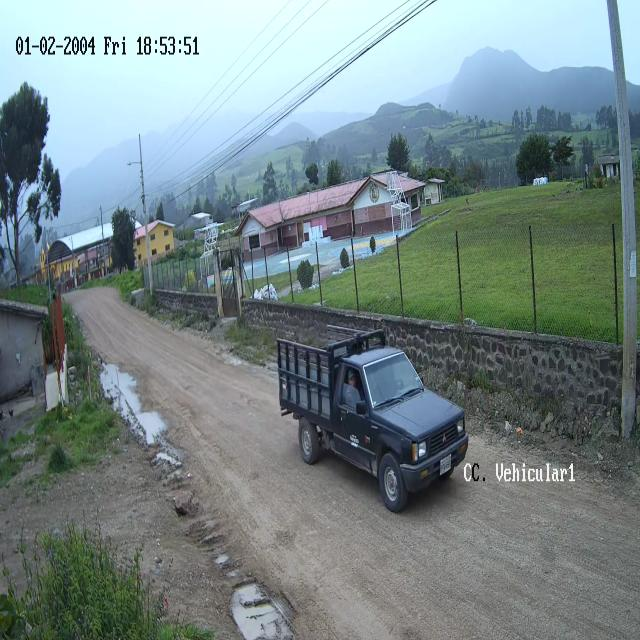CMT: (277, 330, 469, 514)
